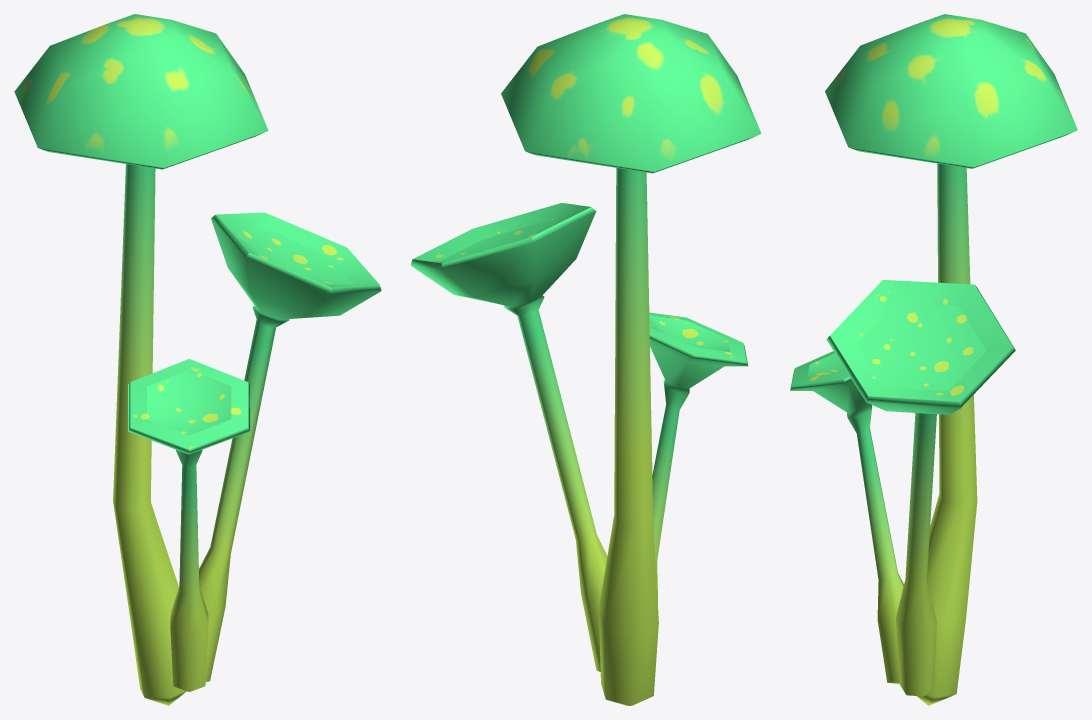
The model's file is MushroomV1.fbx.
3 views of the same model, side by side, from view 1: azimuth 30°, elevation 25°; view 2: azimuth 150°, elevation 25°; view 3: azimuth 270°, elevation 25° (orthographic). The views are drawn at different scales.
Visible parts, largest first — view 1: Mushroom_V1; view 2: Mushroom_V1; view 3: Mushroom_V1.
Part boxes in pixels (box(x1,y1,x2,y2)): Mushroom_V1: box(14, 14, 381, 705); Mushroom_V1: box(410, 14, 761, 705); Mushroom_V1: box(790, 14, 1077, 705).
Bounding box in the file's own units: 1.46 × 2.9 × 1.12.
1 material, 1 textured.
